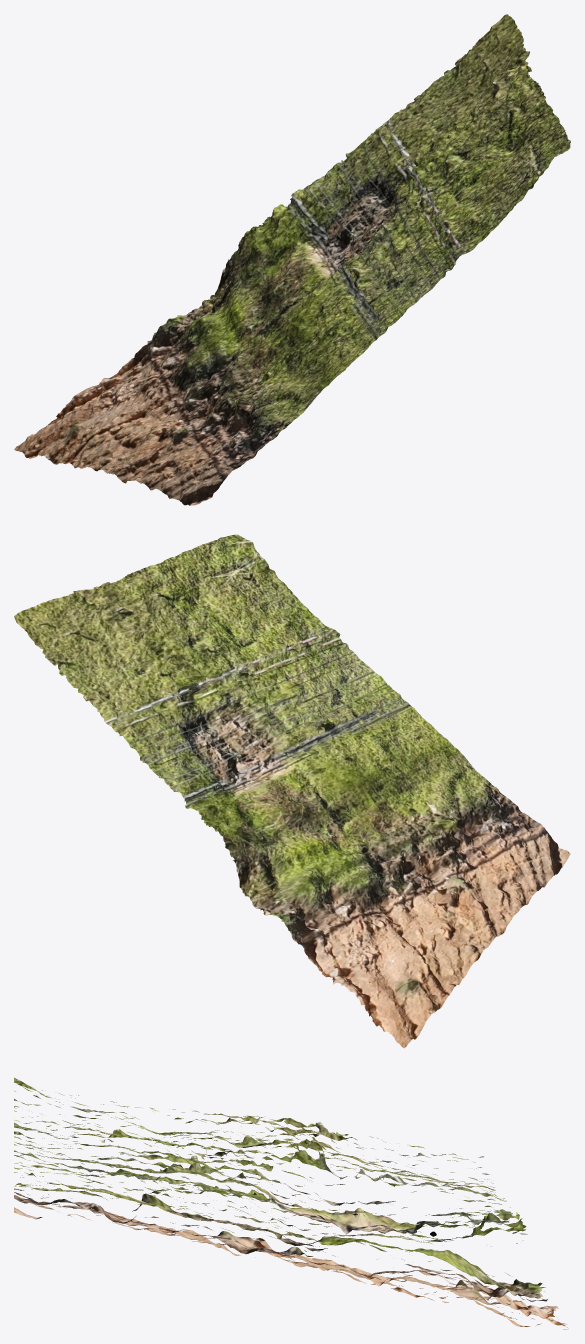
3 renders of one model, top to bottom at view 1: azimuth 30°, elevation 25°; view 2: azimuth 150°, elevation 25°; view 3: azimuth 270°, elevation 25°, orthographic. The views are drawn at different scales.
Size of the model in its own units: 5.98 by 4.25 by 4.14.
2 materials, 2 textured.
